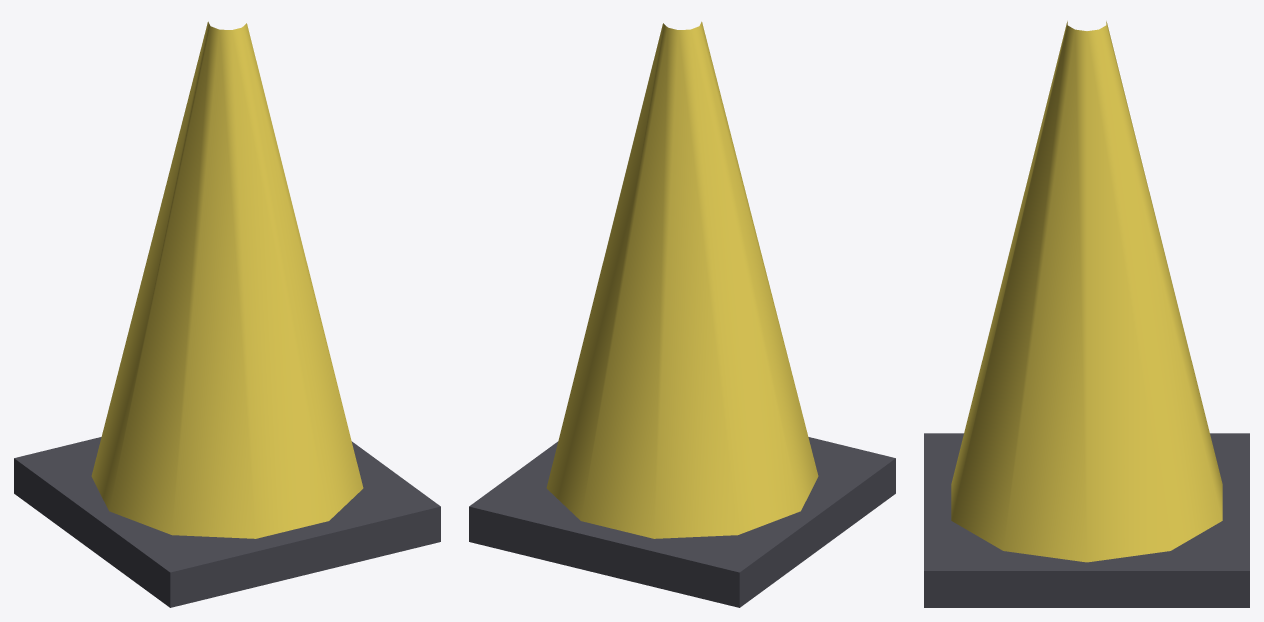
File: garage_cone.glb
The picture shows the model from 3 angles, left to right: view 1: azimuth 30°, elevation 25°; view 2: azimuth 150°, elevation 25°; view 3: azimuth 270°, elevation 25°; orthographic projection. The views are drawn at different scales.
Parts seen in each view (by area): view 1: garage_cone; view 2: garage_cone; view 3: garage_cone.
Boxes of the visible parts, box(x1,y1,x2,y2) form: garage_cone: box(14, 21, 440, 607); garage_cone: box(469, 21, 895, 607); garage_cone: box(924, 21, 1249, 607).
Size of the model in its own units: 0.32 by 0.56 by 0.32.
